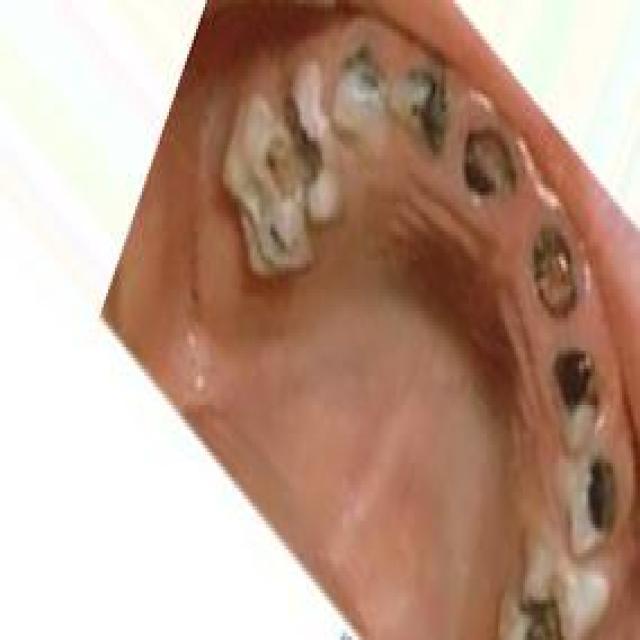caries: (262, 81, 331, 212), (458, 109, 523, 215), (526, 213, 584, 330), (389, 65, 451, 162), (549, 342, 600, 448), (518, 571, 576, 640), (578, 449, 616, 544), (334, 42, 384, 105), (257, 216, 297, 274)
